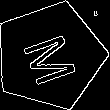M_E: (17, 25, 83, 86)
